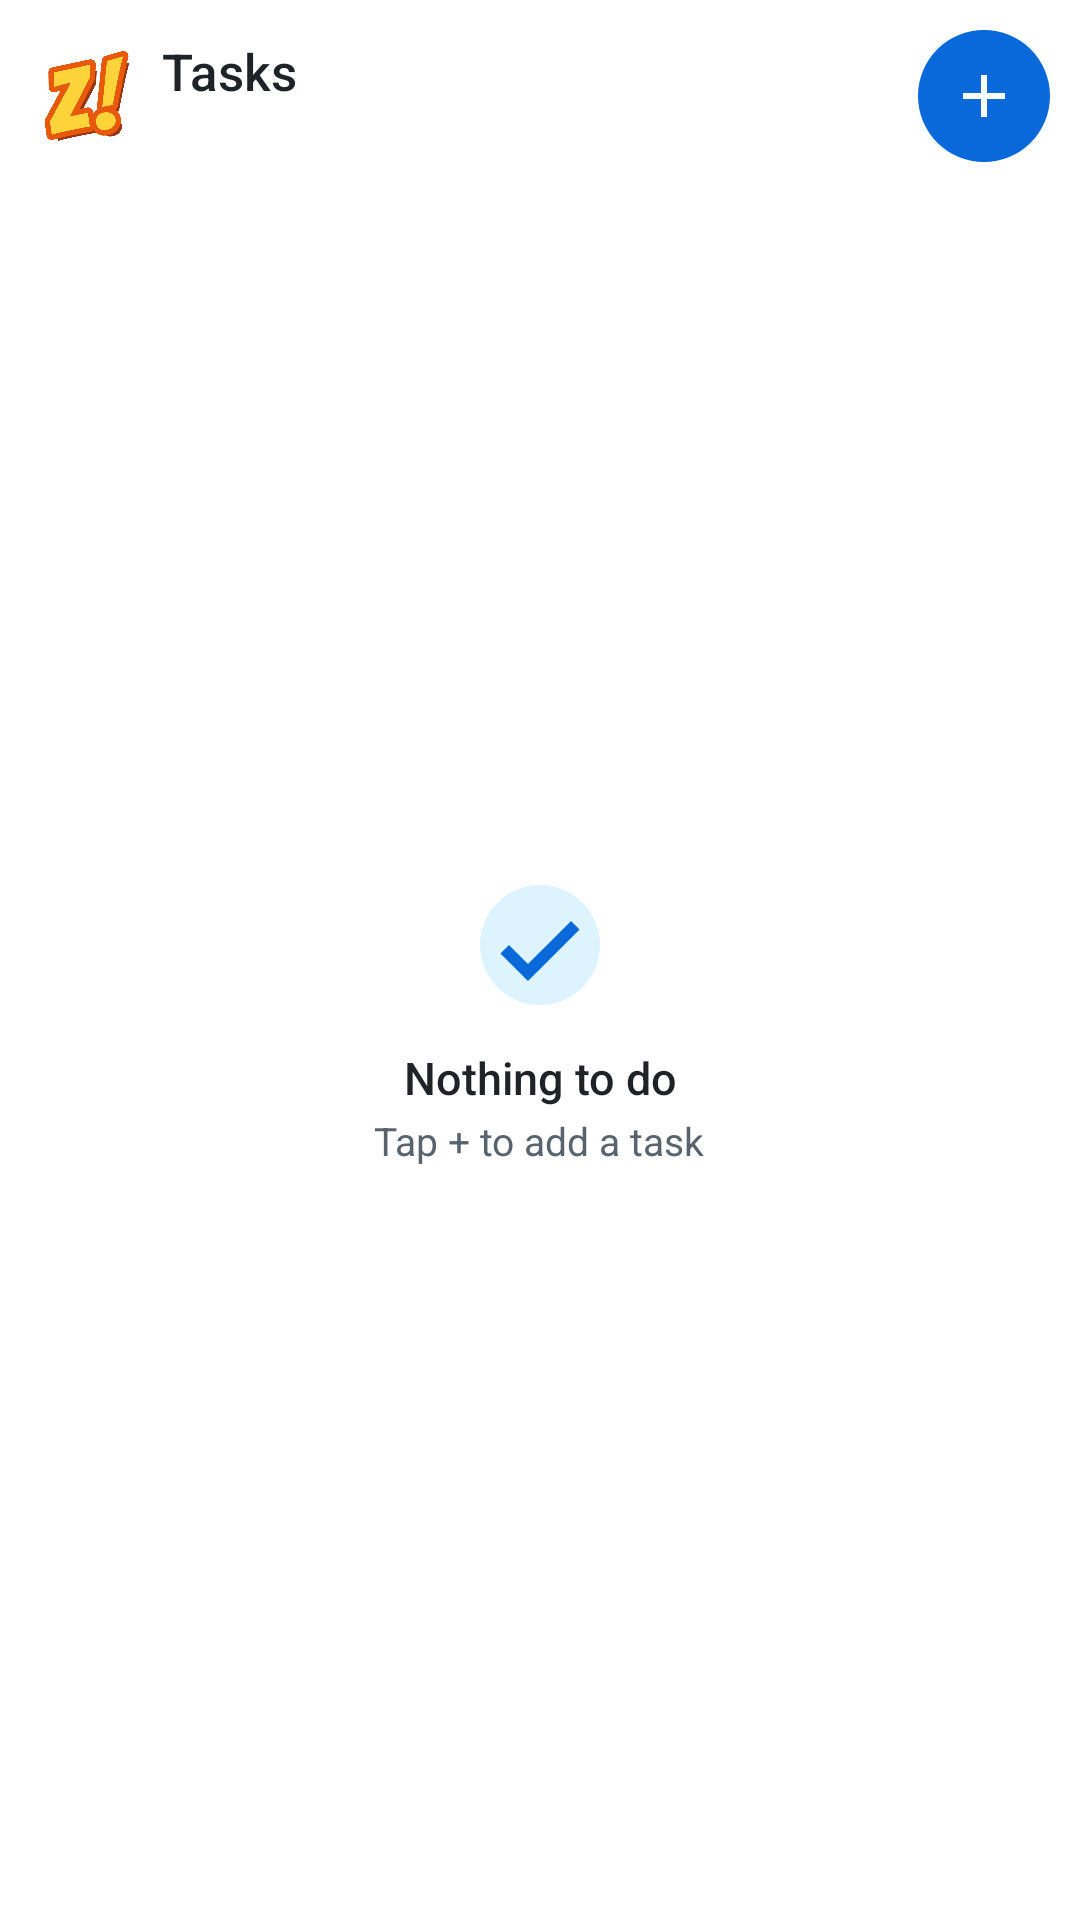

Icons on this 1080x1920 Android screen, each with its box as (x1, y1, x2, y2):
Add task: (918, 30, 1050, 162)
task done: (480, 885, 600, 1005)
